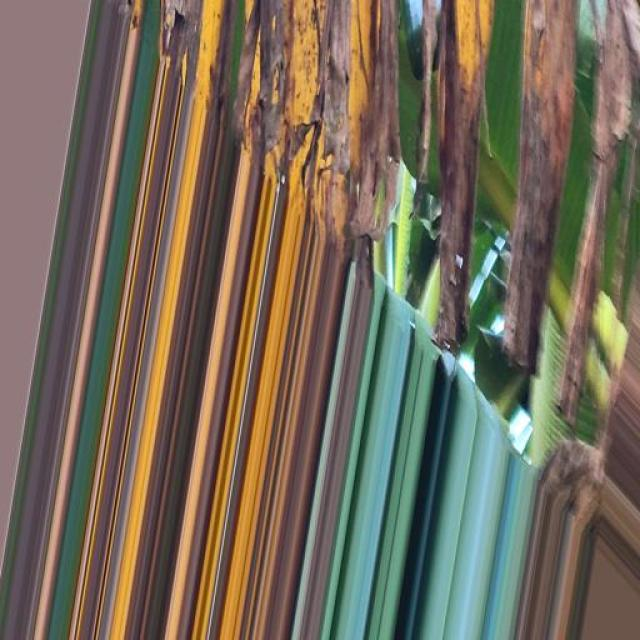Cordana: (62, 0, 640, 493)
